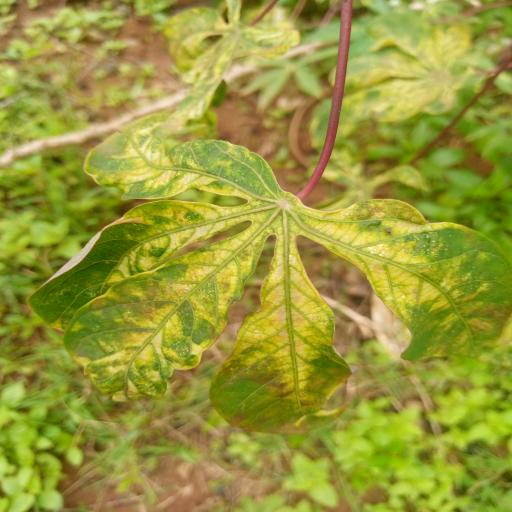Cassava_Mosaic: (25, 117, 512, 440)
